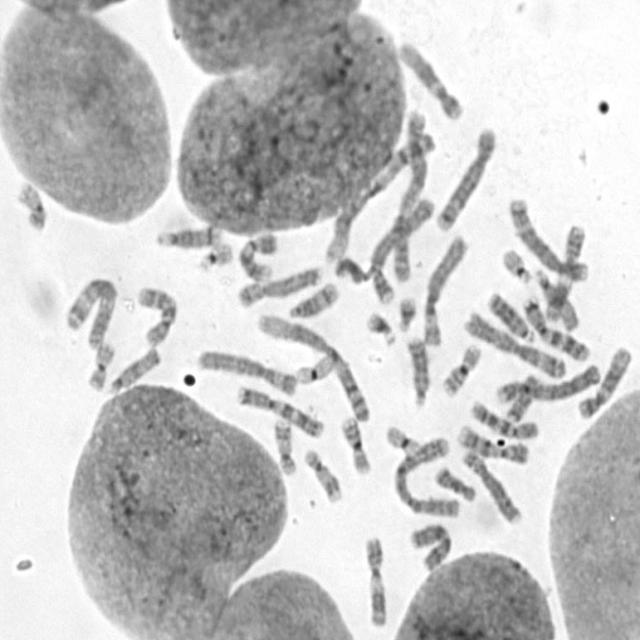A1: (321, 126, 436, 266), (254, 310, 372, 424)
A2: (388, 113, 432, 284), (391, 431, 464, 518)
A3: (462, 307, 568, 379), (60, 270, 118, 352)
B4: (365, 192, 434, 305), (492, 356, 604, 406)
B5: (505, 192, 590, 284), (432, 121, 499, 233)
C10: (467, 396, 542, 442), (134, 279, 181, 348)
C11: (541, 217, 589, 323), (361, 531, 390, 629)
C12: (394, 35, 468, 121), (574, 340, 634, 421)
C6: (418, 228, 470, 348), (194, 344, 301, 398)
C7: (232, 380, 326, 439), (519, 291, 592, 363)
C8: (457, 444, 524, 526), (234, 261, 325, 309)
C9: (453, 419, 531, 466), (234, 229, 280, 283)
D13: (485, 285, 538, 343), (402, 332, 430, 408)
D14: (285, 276, 341, 321), (154, 219, 224, 250)
D15: (530, 262, 581, 332), (104, 341, 162, 396)
E16: (438, 338, 484, 398), (337, 410, 373, 476)
E17: (300, 444, 344, 505), (270, 412, 298, 477)
E18: (501, 368, 542, 423), (431, 461, 478, 503)
F19: (292, 348, 336, 385), (382, 419, 423, 456)
F20: (14, 176, 50, 232), (84, 337, 117, 392)
G21: (362, 306, 398, 347), (394, 290, 419, 333)
G22: (498, 243, 534, 284), (194, 236, 235, 272)
X: (407, 517, 454, 572)
